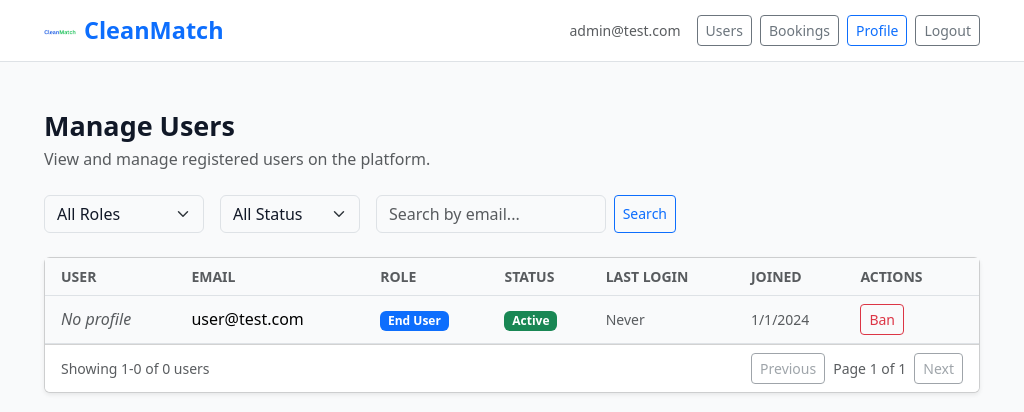
AdminUsersPage › clicking Cancel in ban flow hides the ban input
This screenshot has width=1024, height=412.
Click the button "Ban" at [882, 319], box top-left (860, 304), bottom-right (904, 334)
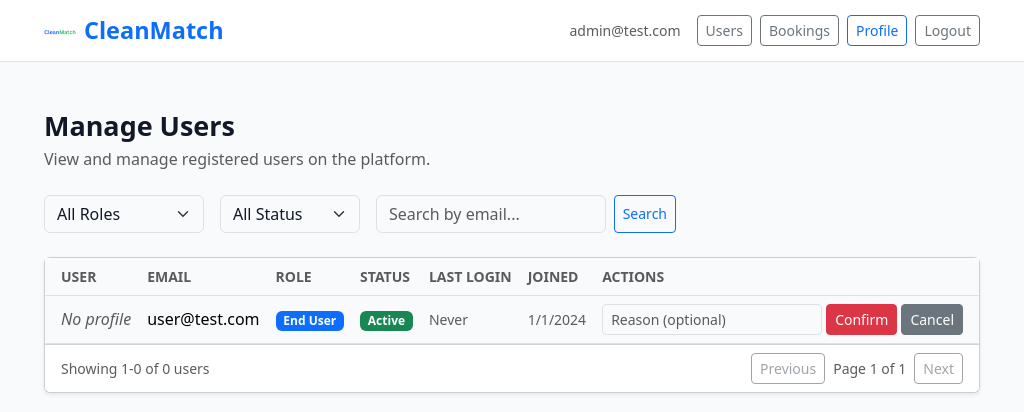
Expected: the button "Cancel" is shown
Click the button "Cancel" at [932, 319], box top-left (901, 304), bottom-right (963, 334)
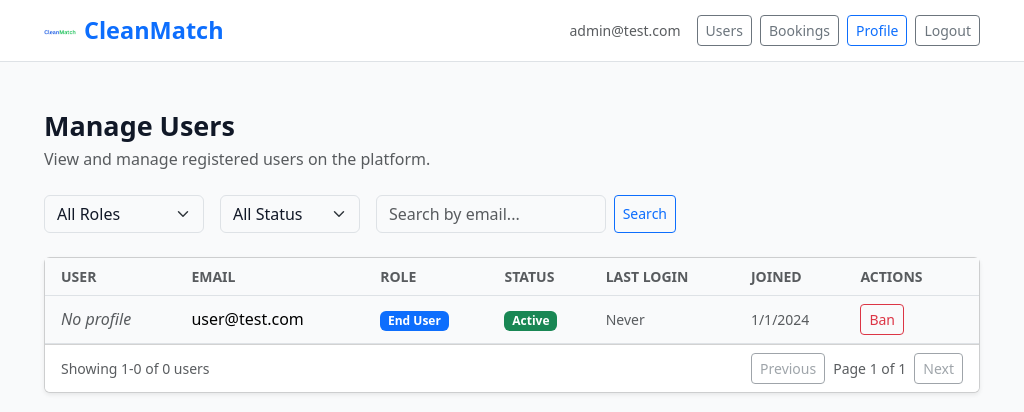
Expected: the button "Ban" is shown, top-left (860, 304), bottom-right (904, 334)
